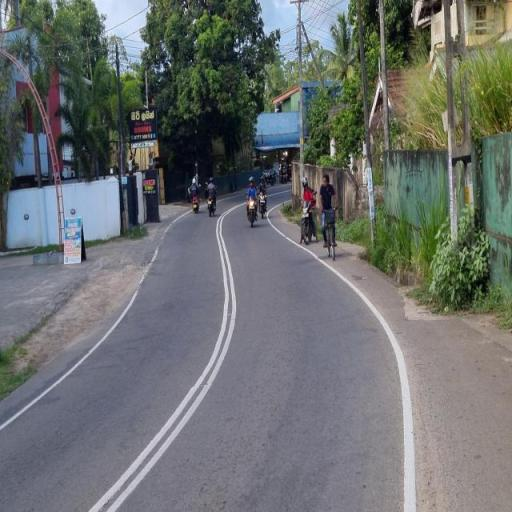double_white_line: (86, 201, 240, 510)
